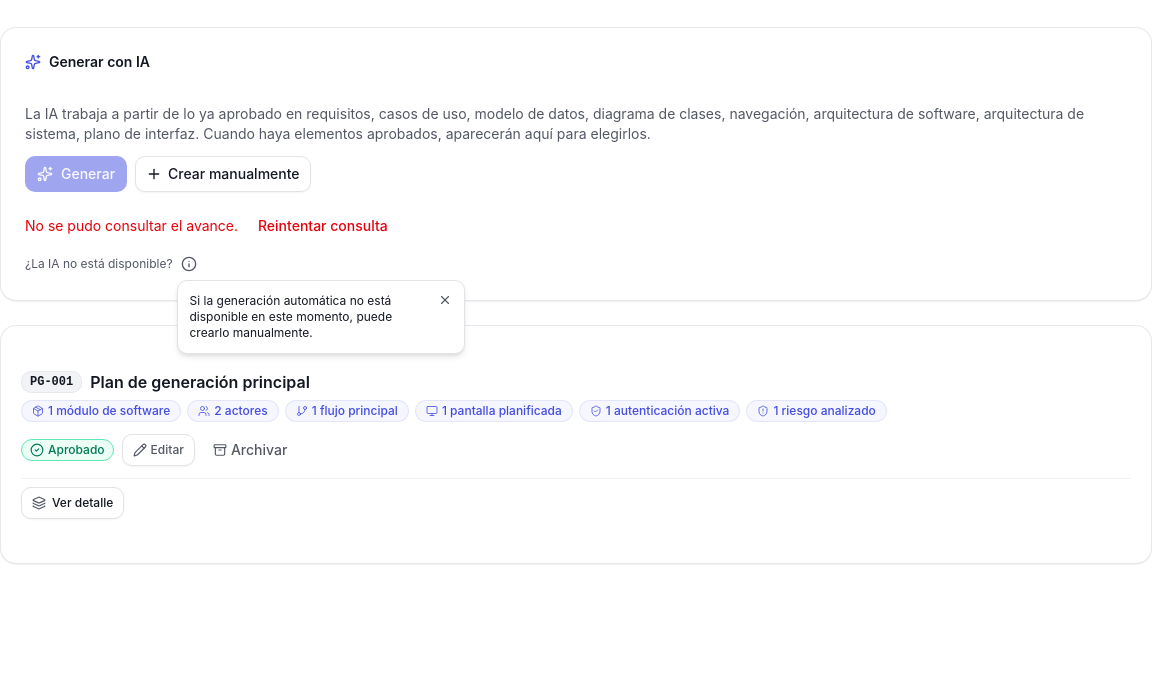
GenerationPlanPage › toggles detail and renders GenerationPlanDetail with rich content
expect the text "PG-001" is shown: met, box [21,371,82,393]
Click the button "Ver detalle": (73, 503) [21,487,124,519]
(page scrolled)
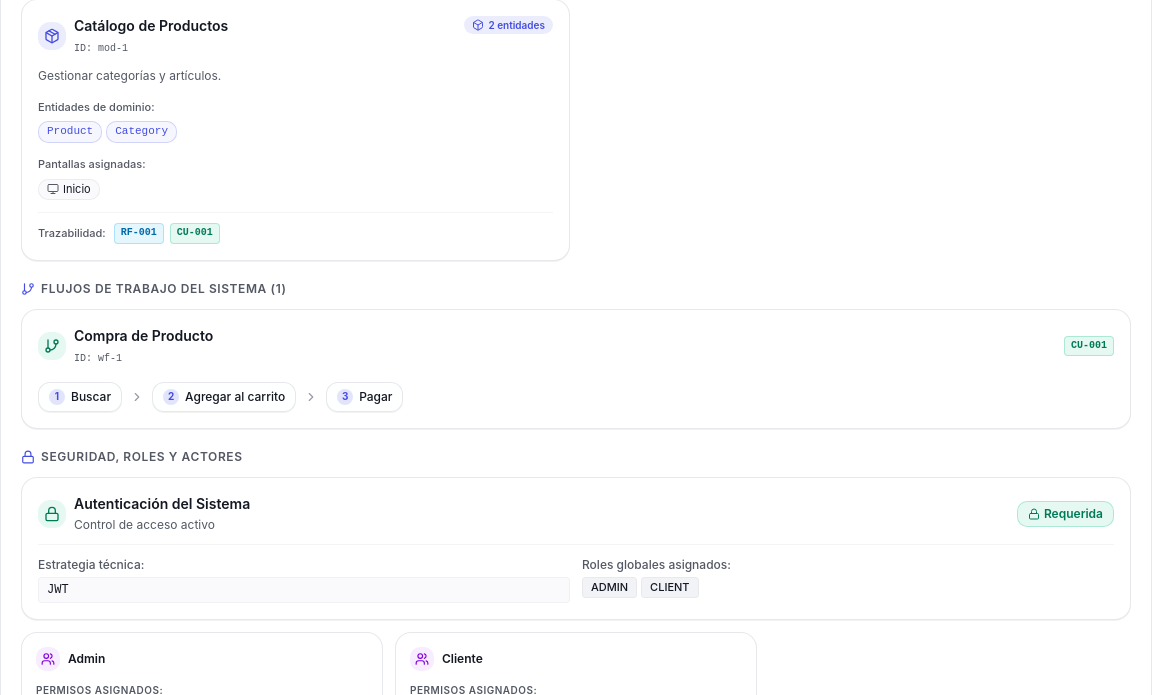
expect the heading "Catálogo de Productos" is shown: met, box [74,16,228,36]
expect the text "Product" is shown: met, box [38,121,102,143]
expect the text "Category" is shown: met, box [106,121,177,143]
